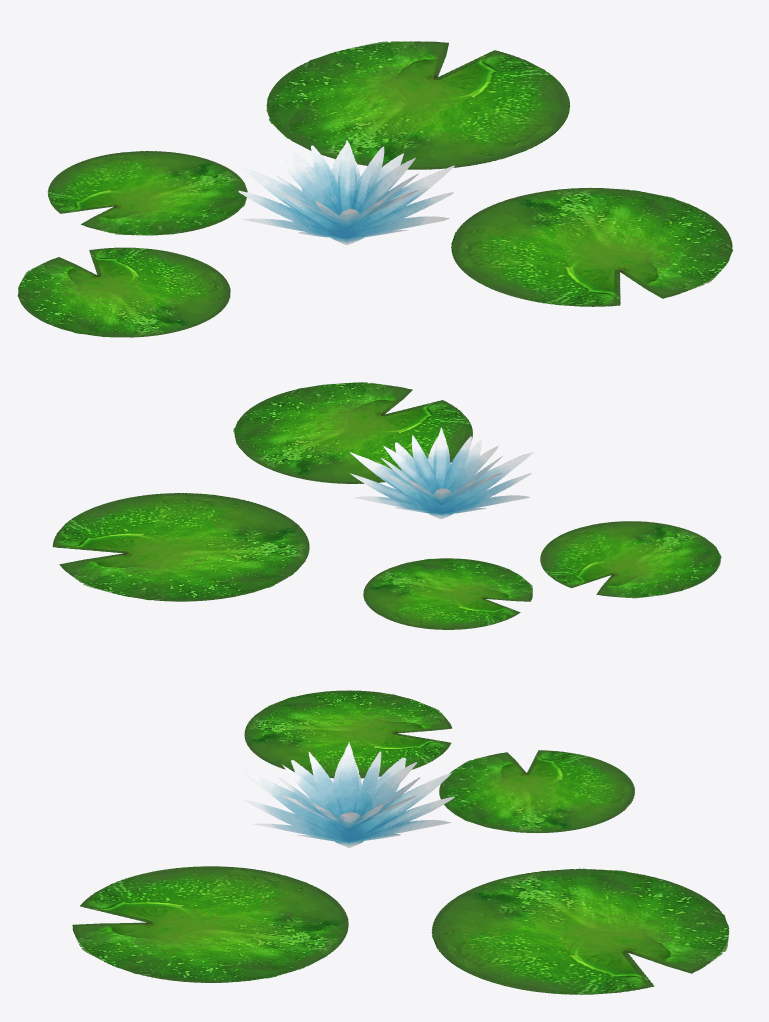
The model's file is Lilypad.fbx.
3 renders of one model, top to bottom at view 1: azimuth 30°, elevation 25°; view 2: azimuth 150°, elevation 25°; view 3: azimuth 270°, elevation 25°, orthographic. The views are drawn at different scales.
Parts seen in each view (by area): view 1: polySurface205; view 2: polySurface205; view 3: polySurface205.
Boxes of the visible parts, x1=… form: polySurface205: x1=17, y1=41, x2=733, y2=337; polySurface205: x1=52, y1=382, x2=721, y2=629; polySurface205: x1=72, y1=690, x2=729, y2=994.
Bounding box in the file's own units: 323 × 28.94 × 302.
